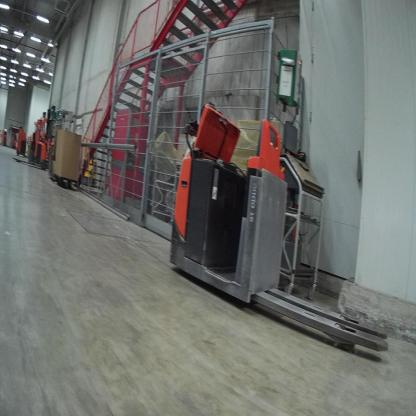forklift: (36, 103, 58, 164), (29, 107, 52, 160)
pallet_truck: (159, 97, 390, 352), (14, 125, 33, 160)
